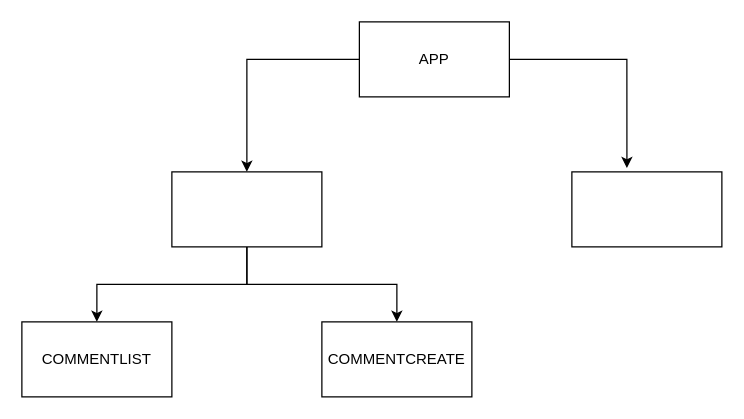
The diagram is 744 pixels wide and 419 high, and some of its shapes have lost their labels. The centre of each missing label's shape, as x and y in pixels:
"POSTCREATE" belongs at point (646, 209).
"POSTLIST" belongs at point (246, 209).
